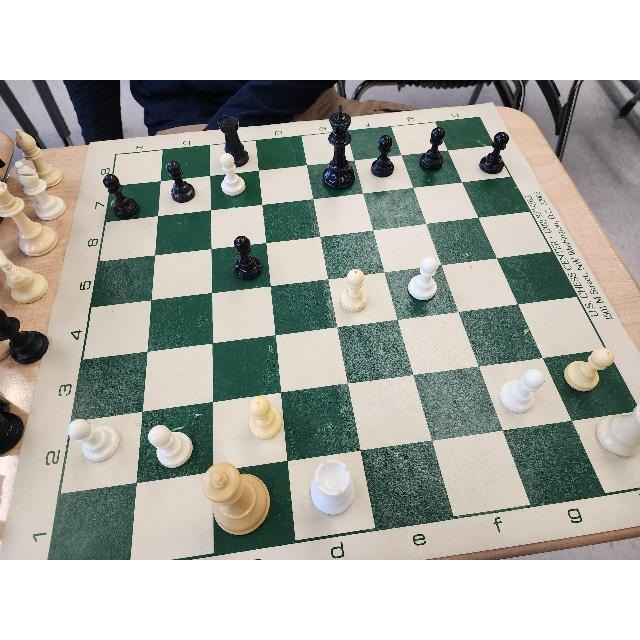black-king: (323, 103, 355, 190)
black-pawn: (104, 173, 138, 219), (165, 159, 196, 203), (232, 234, 259, 281), (478, 132, 507, 172), (421, 127, 445, 171), (371, 134, 395, 177)
black-rook: (218, 116, 250, 167)
white-bishop: (15, 127, 65, 189), (14, 161, 66, 219)
white-king: (202, 461, 272, 537)
white-pawn: (68, 419, 120, 463), (565, 349, 614, 393), (147, 425, 194, 469), (501, 370, 546, 411), (247, 397, 283, 441), (409, 257, 437, 299), (220, 153, 247, 195), (342, 269, 368, 311)
white-queen: (0, 183, 58, 255)
white-rook: (311, 460, 355, 515)
